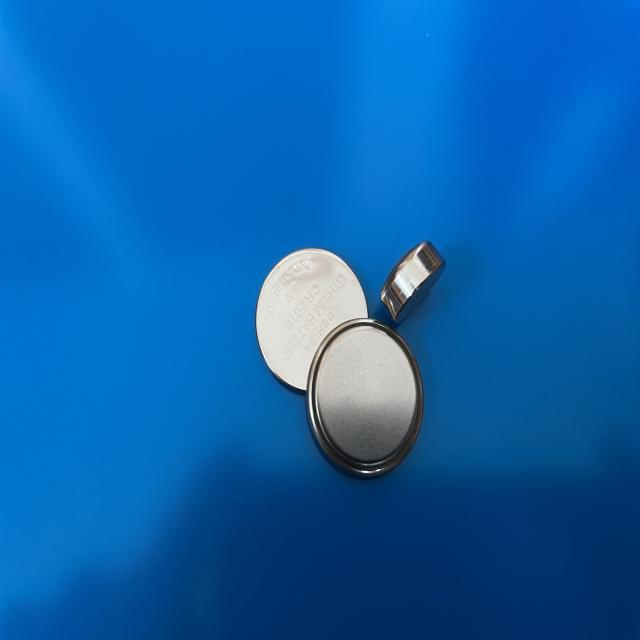COIN: (304, 316, 426, 483), (252, 246, 370, 394), (380, 238, 448, 324)
